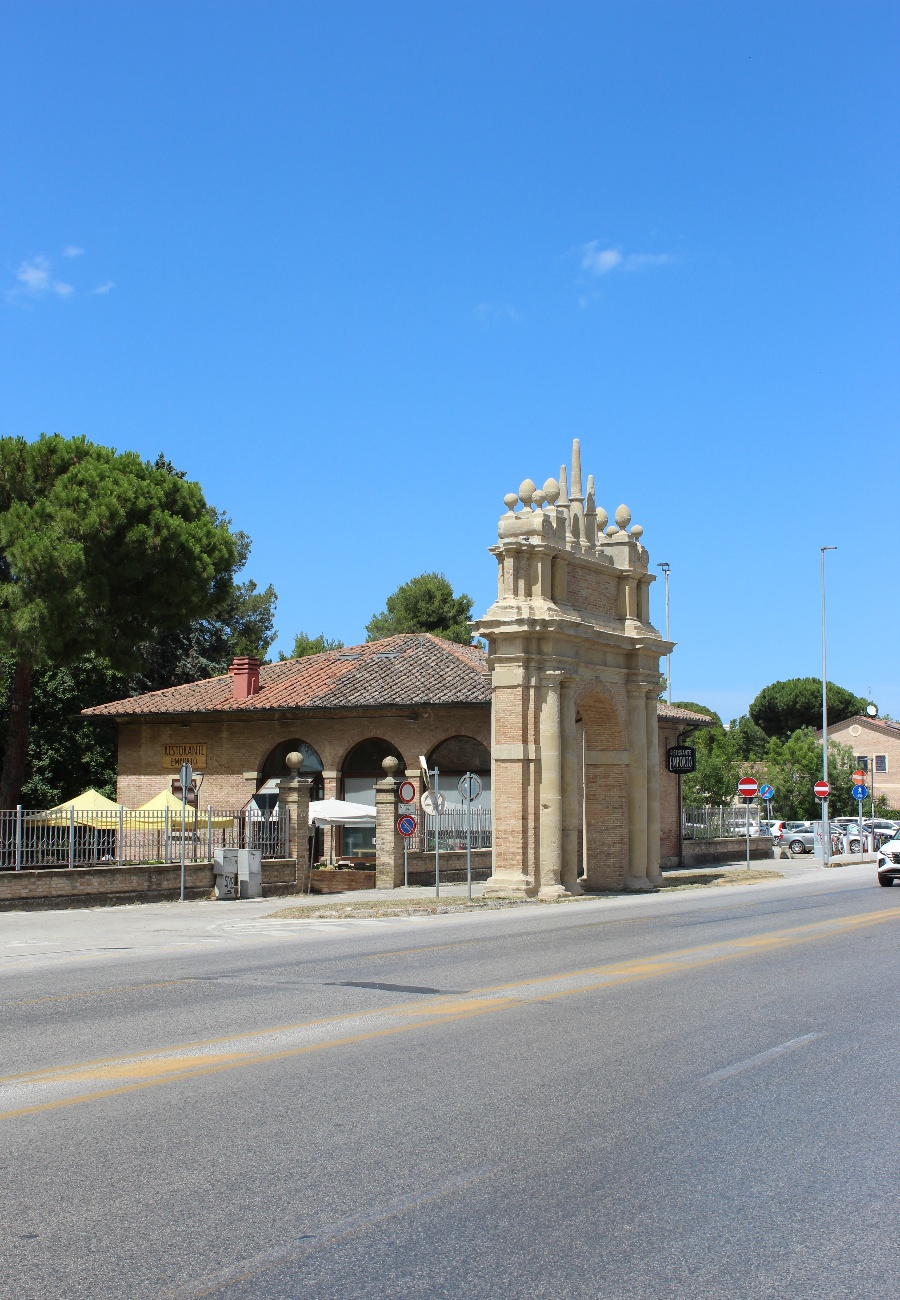Arco di Trionfo: (465, 437, 679, 900)
